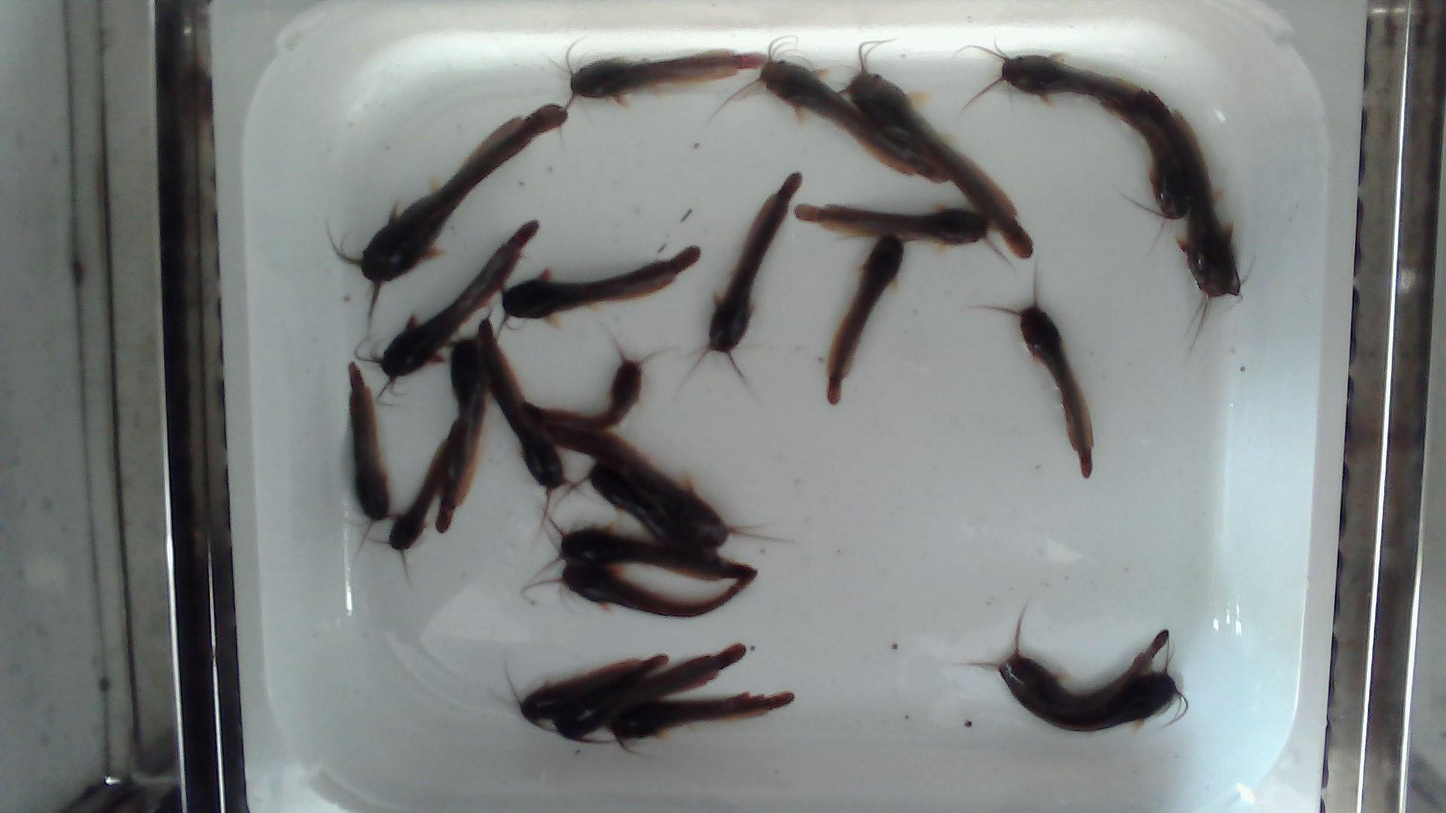lele: (332, 105, 568, 324), (841, 41, 1034, 259), (703, 45, 947, 182), (542, 427, 791, 548), (371, 221, 538, 391), (685, 173, 801, 389), (1148, 91, 1242, 350), (979, 266, 1093, 477), (974, 611, 1166, 715), (479, 318, 574, 526), (553, 644, 743, 744), (533, 541, 760, 620), (502, 246, 700, 327), (562, 464, 717, 561), (1009, 650, 1192, 732), (564, 42, 769, 108), (961, 48, 1153, 118), (826, 236, 903, 404), (367, 436, 450, 590), (504, 654, 667, 731), (539, 522, 752, 580), (607, 688, 800, 751), (530, 343, 657, 434), (1102, 99, 1193, 221), (795, 205, 1003, 257), (434, 331, 487, 531), (349, 363, 390, 519)
